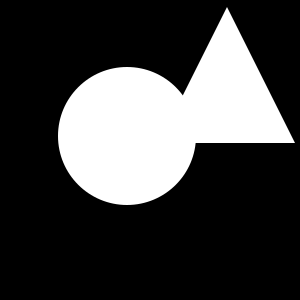rectangle: (58, 67, 196, 205)
triangle: (159, 7, 295, 143)
